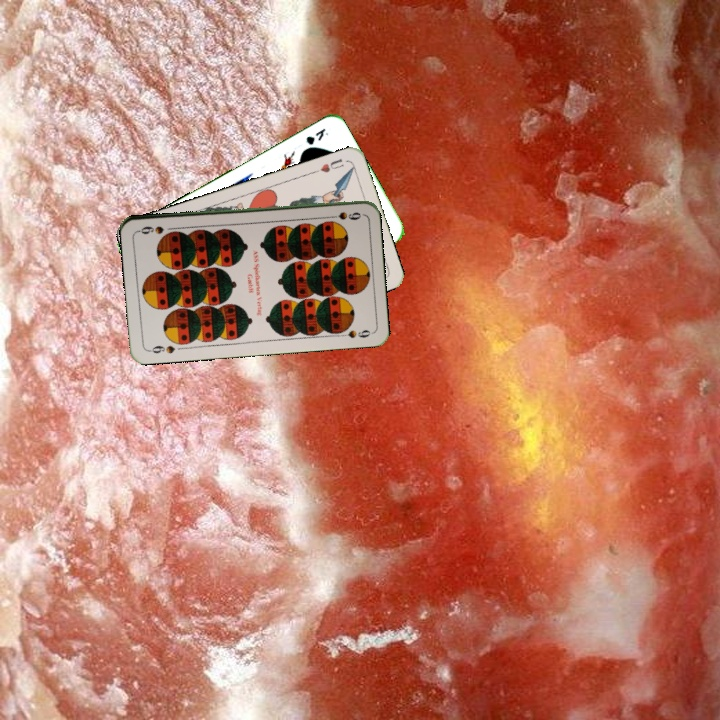GK: (302, 124, 331, 148)
HU: (310, 154, 346, 176)
S9: (323, 208, 364, 222), (144, 341, 178, 356)
